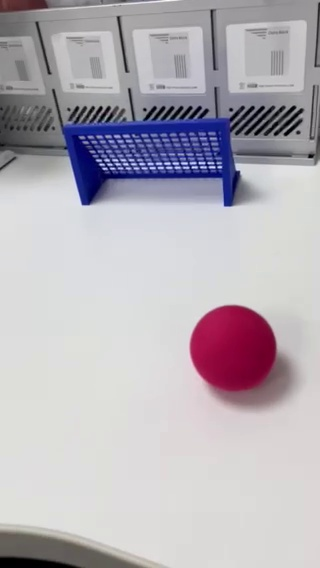goal: (56, 108, 241, 208)
redball: (185, 301, 279, 393)
